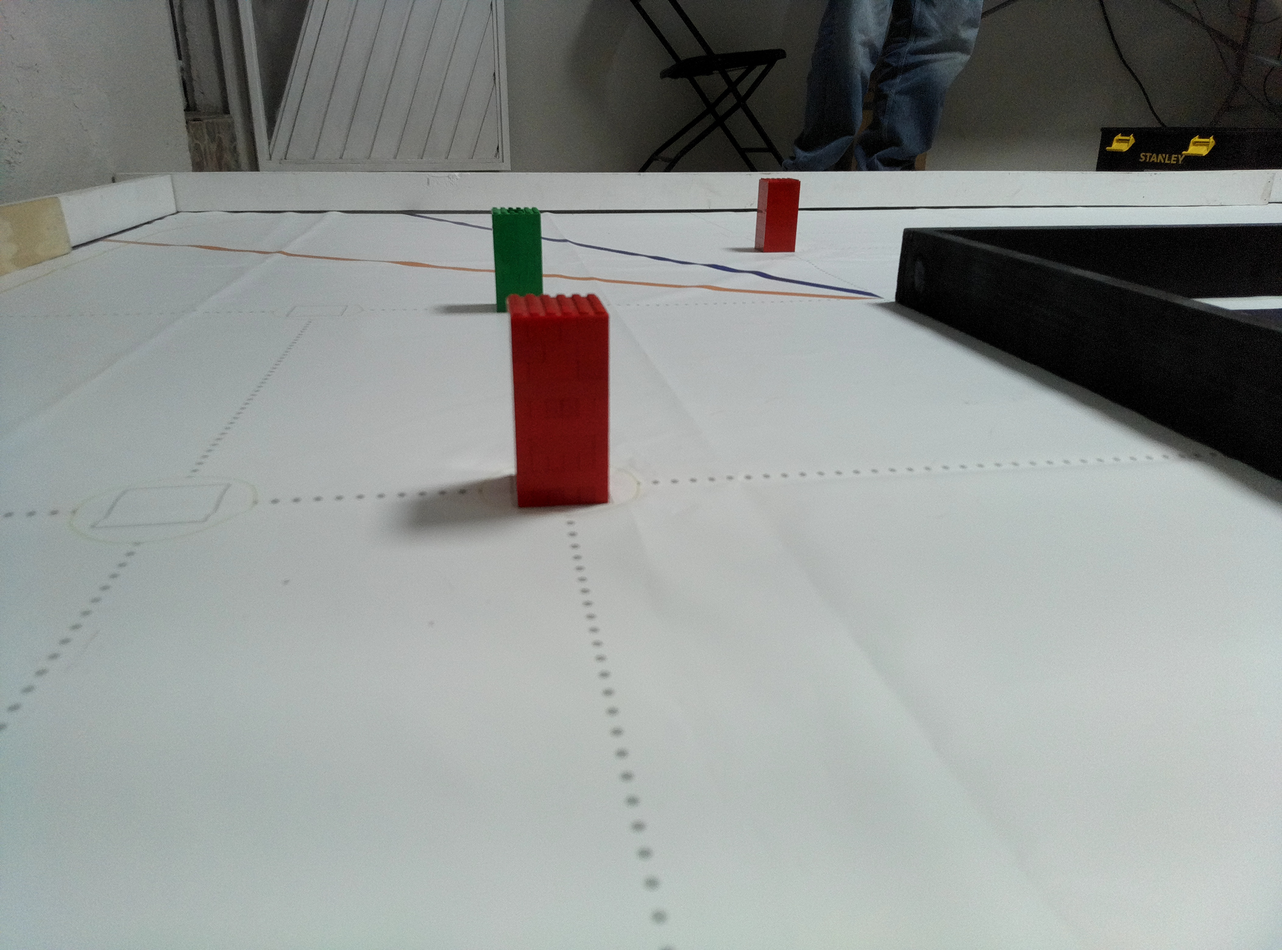greenbox: (489, 207, 544, 315)
redbox: (502, 293, 612, 511), (753, 176, 802, 254)
